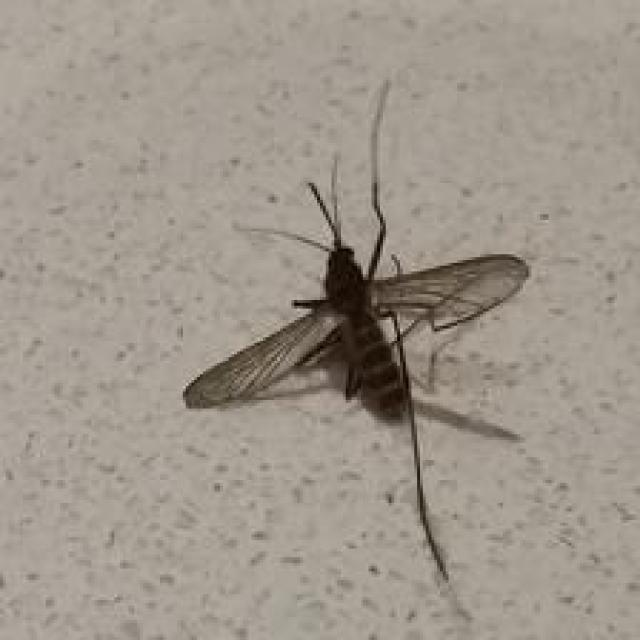Culex: (181, 76, 533, 621)
